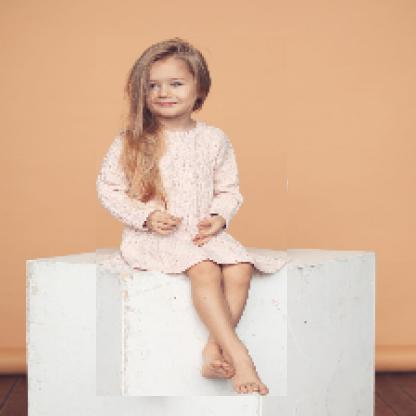child: (97, 37, 290, 398)
